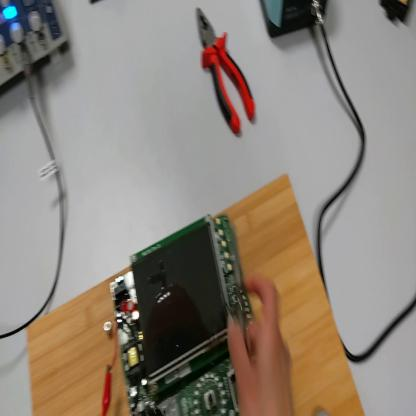hand: (228, 273, 295, 416)
low voltage board: (105, 213, 248, 416)
oscilloscope: (2, 3, 72, 93)
oscilloscope probe tip: (226, 218, 247, 338)
pliers: (196, 7, 258, 138)
welder base: (379, 1, 413, 29)
welder station: (261, 2, 328, 40)
working area: (27, 170, 365, 416)
